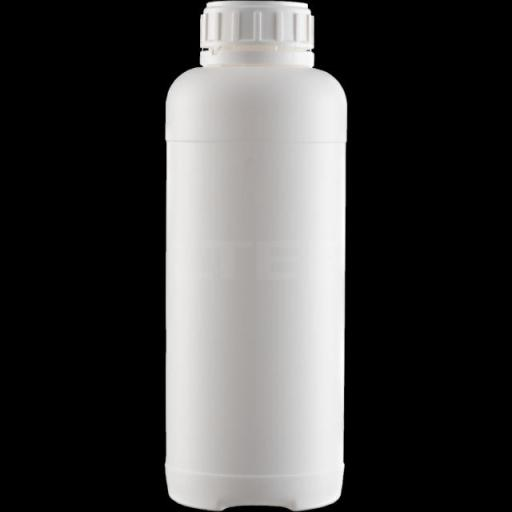plastic: (160, 0, 362, 512)
